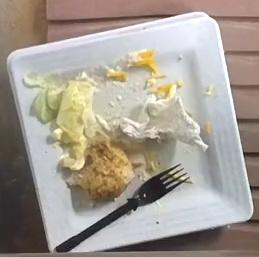fish: (67, 142, 134, 200)
vegetables: (32, 75, 99, 170)
